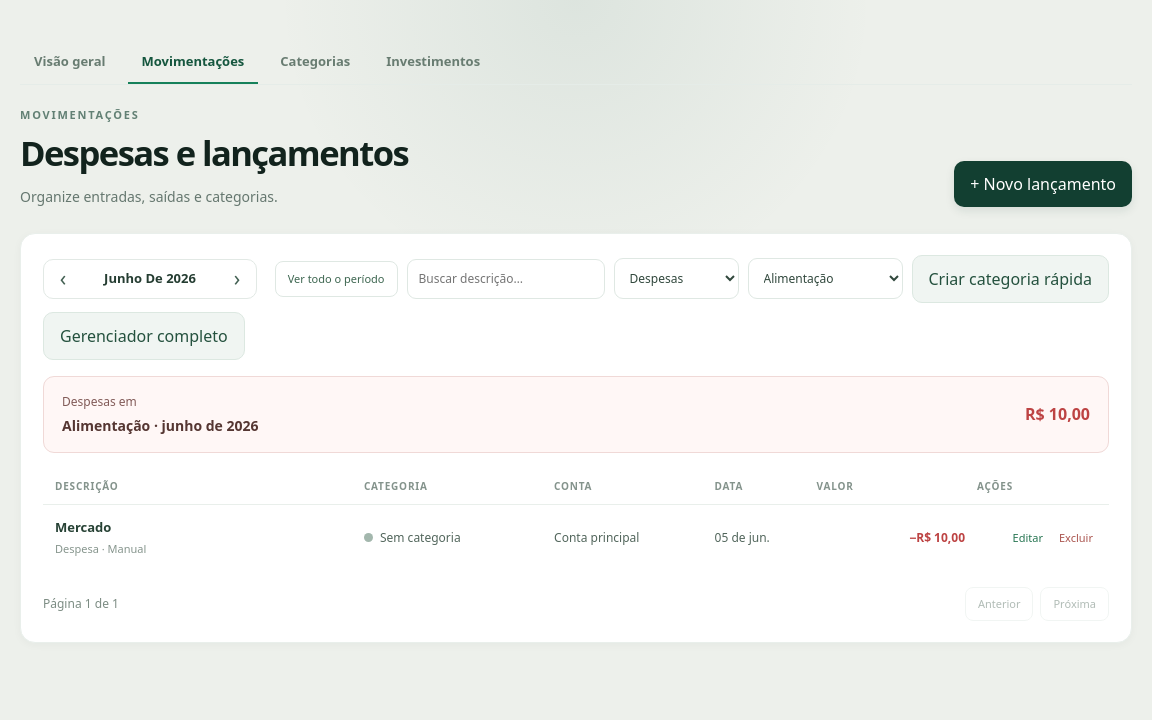
Test case: updates the category summary when switching from expenses to income
Expected: the element named "Resumo da categoria" shows "Despesas em", [62, 393, 137, 410]
Select "Receitas" in the dropdown named "Tipo": (676, 279) [614, 258, 738, 299]
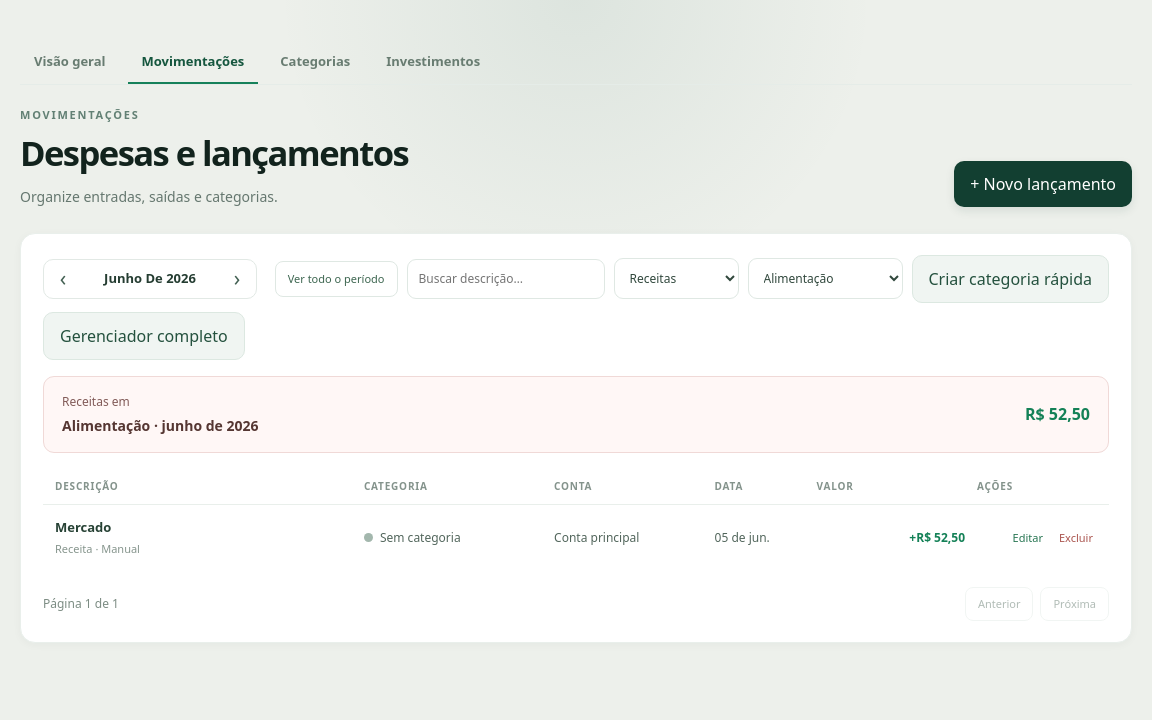
Now the element named "Resumo da categoria" shows "Receitas em", box [62, 393, 130, 410]
Now the element named "Resumo da categoria" shows "52,50", box [1025, 403, 1090, 425]
Now the text "R$ 52,50" is shown, box [1025, 402, 1090, 426]
